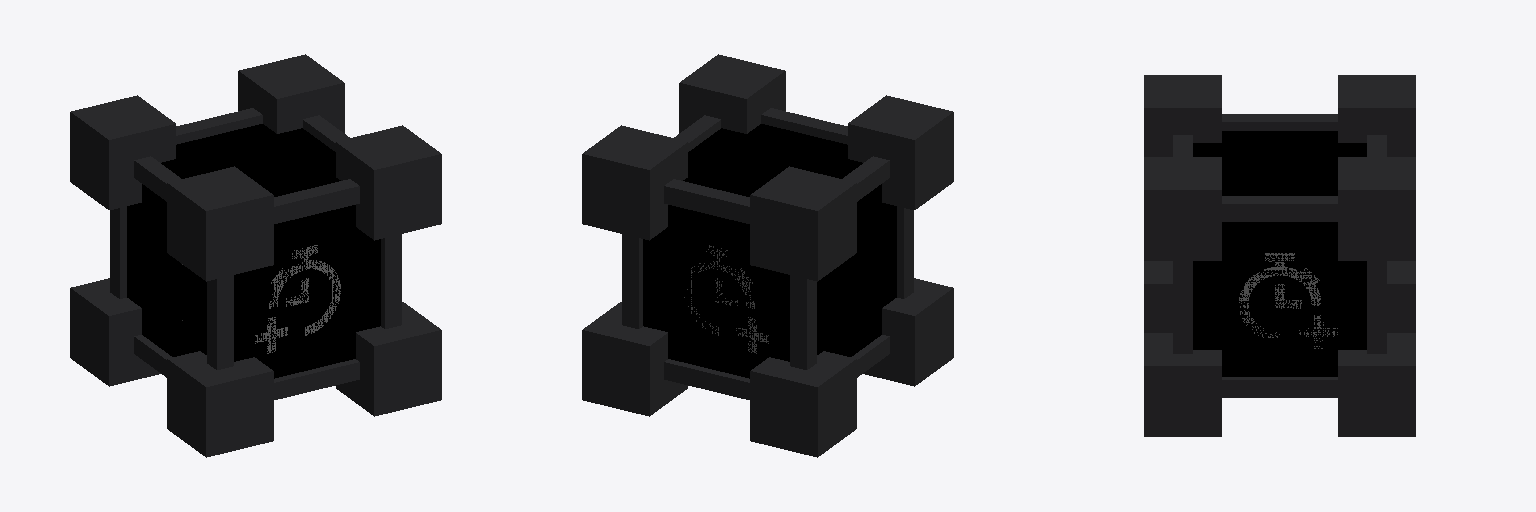
3 renders of one model, left to right at view 1: azimuth 30°, elevation 25°; view 2: azimuth 150°, elevation 25°; view 3: azimuth 270°, elevation 25°, orthographic.
Parts seen in each view (by area): view 1: BonusTime; view 2: BonusTime; view 3: BonusTime.
Boxes of the visible parts, <box> form: BonusTime: <box>70,54,441,457</box>; BonusTime: <box>582,54,953,457</box>; BonusTime: <box>1144,75,1415,436</box>.
Bounding box in the file's own units: 2.8 × 2.8 × 2.8.
Materials: 11 (2 with a texture image).